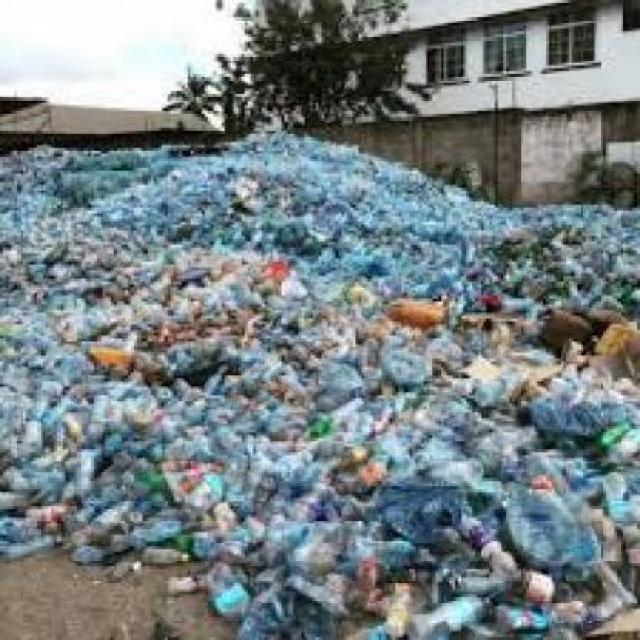garbage: (0, 154, 389, 552), (265, 234, 632, 638)
